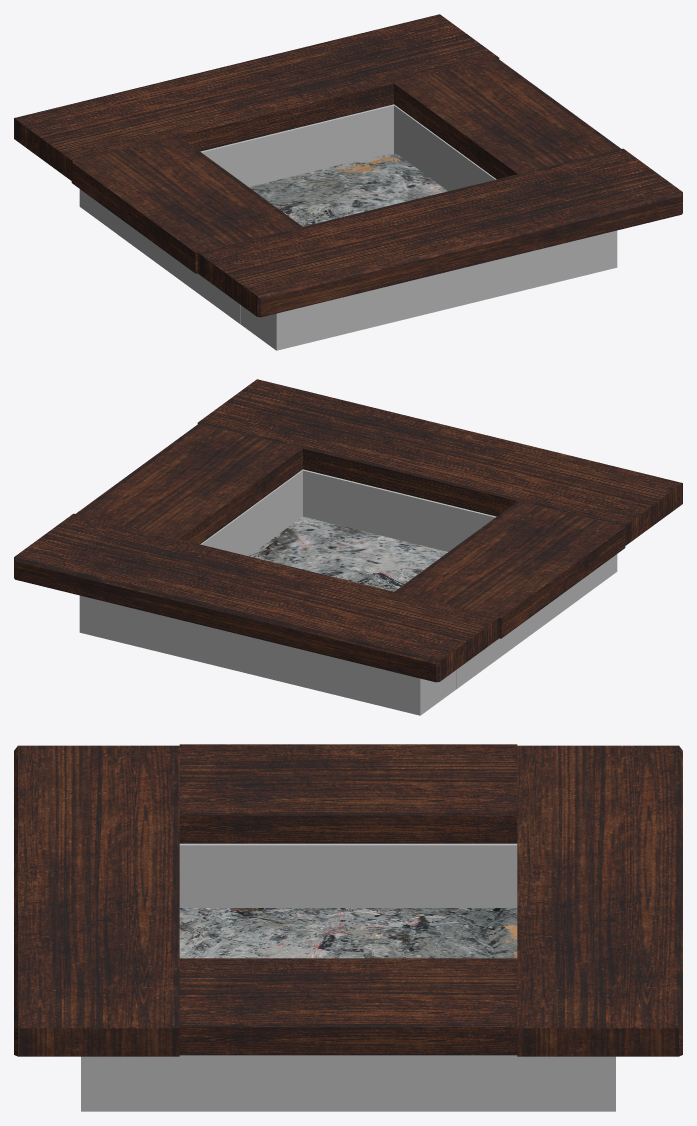
The model's file is irori01a.fbx.
3 views of the same model, one above another, from view 1: azimuth 30°, elevation 25°; view 2: azimuth 150°, elevation 25°; view 3: azimuth 270°, elevation 25° (orthographic). The views are drawn at different scales.
Parts seen in each view (by area): view 1: irori01a; view 2: irori01a; view 3: irori01a.
Boxes of the visible parts, <box> form: irori01a: <box>14,14,682,350</box>; irori01a: <box>14,379,682,715</box>; irori01a: <box>14,744,682,1111</box>.
Bounding box in the file's own units: 173 × 33.75 × 173.
